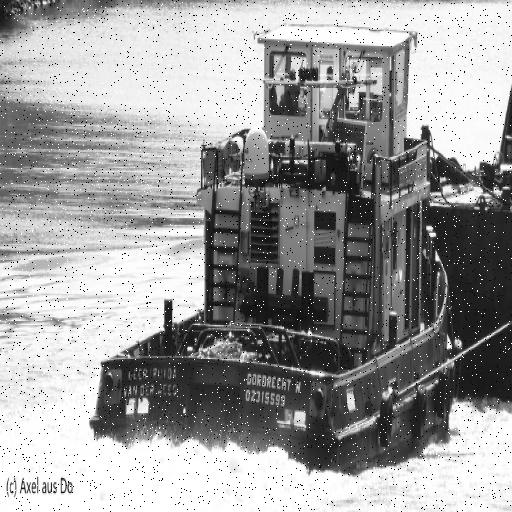tugboat: (89, 20, 463, 483)
